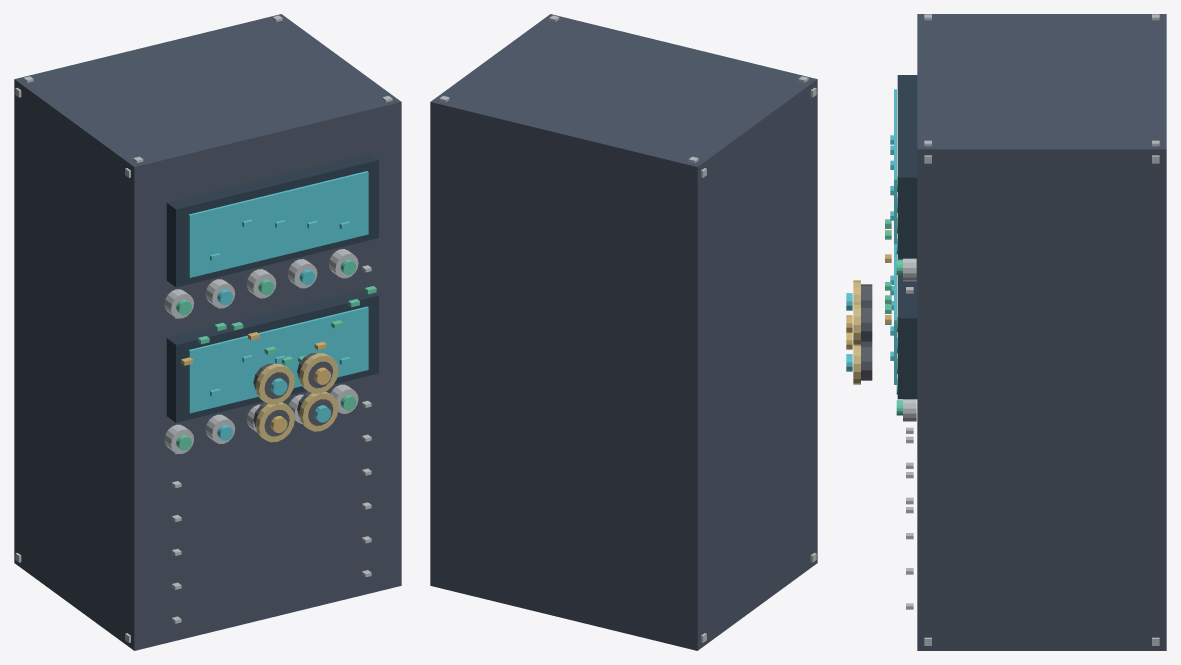
The model's file is 29_L82_EMIComplianceMeasurementReceiver.glb.
3 renders of one model, left to right at view 1: azimuth 30°, elevation 25°; view 2: azimuth 150°, elevation 25°; view 3: azimuth 270°, elevation 25°, orthographic. The views are drawn at different scales.
Visible parts, largest first — view 1: EMIComplianceMeasurementReceiver_Node_0000, EMIComplianceMeasurementReceiver_Node_0010, EMIComplianceMeasurementReceiver_Node_0027, EMIComplianceMeasurementReceiver_Node_0009, EMIComplianceMeasurementReceiver_Node_0026, EMIComplianceMeasurementReceiver_Node_0091, EMIComplianceMeasurementReceiver_Node_0088, EMIComplianceMeasurementReceiver_Node_0085, EMIComplianceMeasurementReceiver_Node_0082; view 2: EMIComplianceMeasurementReceiver_Node_0000; view 3: EMIComplianceMeasurementReceiver_Node_0000, EMIComplianceMeasurementReceiver_Node_0009, EMIComplianceMeasurementReceiver_Node_0026, EMIComplianceMeasurementReceiver_Node_0010.
Boxes of the visible parts, x1=… form: EMIComplianceMeasurementReceiver_Node_0000: x1=14, y1=14, x2=401, y2=650; EMIComplianceMeasurementReceiver_Node_0010: x1=188, y1=171, x2=368, y2=277; EMIComplianceMeasurementReceiver_Node_0027: x1=188, y1=306, x2=368, y2=413; EMIComplianceMeasurementReceiver_Node_0009: x1=166, y1=153, x2=378, y2=287; EMIComplianceMeasurementReceiver_Node_0026: x1=166, y1=290, x2=378, y2=422; EMIComplianceMeasurementReceiver_Node_0091: x1=299, y1=353, x2=338, y2=393; EMIComplianceMeasurementReceiver_Node_0088: x1=255, y1=364, x2=294, y2=404; EMIComplianceMeasurementReceiver_Node_0085: x1=299, y1=391, x2=338, y2=431; EMIComplianceMeasurementReceiver_Node_0082: x1=255, y1=402, x2=294, y2=442; EMIComplianceMeasurementReceiver_Node_0000: x1=430, y1=14, x2=817, y2=650; EMIComplianceMeasurementReceiver_Node_0000: x1=917, y1=14, x2=1166, y2=650; EMIComplianceMeasurementReceiver_Node_0009: x1=897, y1=75, x2=917, y2=258; EMIComplianceMeasurementReceiver_Node_0026: x1=897, y1=258, x2=917, y2=399; EMIComplianceMeasurementReceiver_Node_0010: x1=894, y1=89, x2=896, y2=244.
Size of the model in its own units: 1.06 by 1.82 by 1.04.
